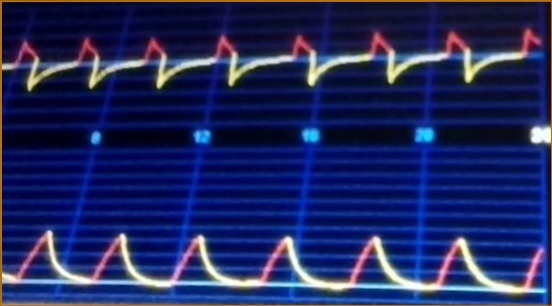Normal Flow: (4, 17, 541, 111)
Normal Volume: (3, 208, 545, 296)
